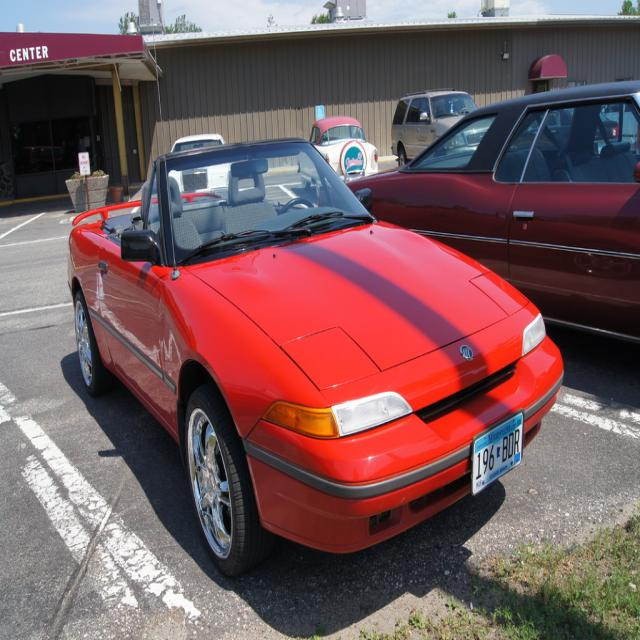car: (64, 145, 540, 571)
